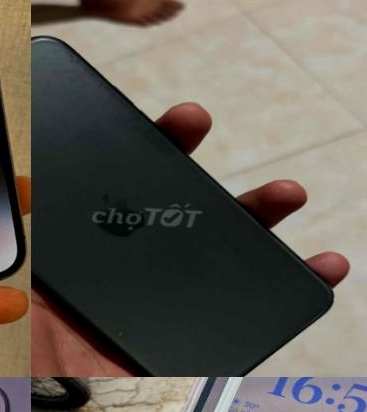scratch: (42, 50, 191, 153), (195, 225, 284, 289), (106, 316, 143, 347)
screen_defect: (218, 377, 255, 412)
